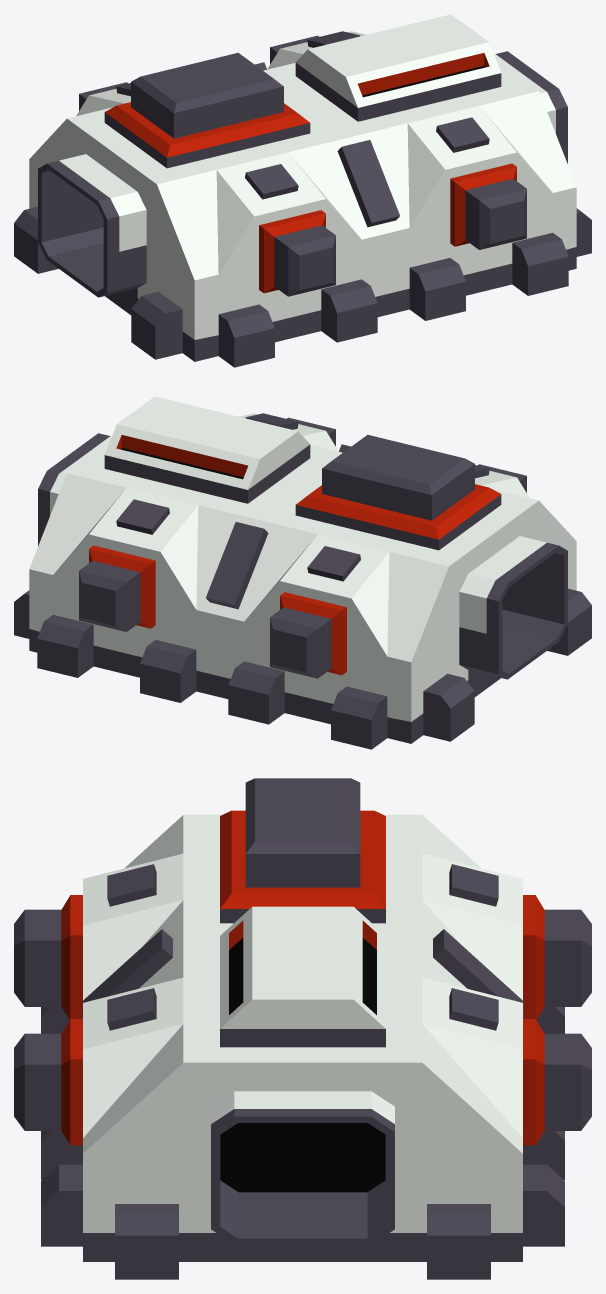
The model's file is DeadlineModel.fbx.
The picture shows the model from 3 angles, top to bottom: view 1: azimuth 30°, elevation 25°; view 2: azimuth 150°, elevation 25°; view 3: azimuth 270°, elevation 25°; orthographic projection. The views are drawn at different scales.
Parts seen in each view (by area): view 1: Constructor_Base, Constructor_T_M, Constructor_RB_M, Constructor_RF_M; view 2: Constructor_Base, Constructor_T_M, Constructor_LB_M, Constructor_LF_M; view 3: Constructor_Base, Constructor_T_M, Constructor_LB_M, Constructor_LF_M, Constructor_RB_M, Constructor_RF_M.
Part boxes in pixels (x1,y1,x2,y2): Constructor_Base: (14, 14, 591, 367); Constructor_T_M: (131, 52, 283, 138); Constructor_RB_M: (274, 225, 335, 296); Constructor_RF_M: (465, 178, 526, 249); Constructor_Base: (14, 396, 591, 749); Constructor_T_M: (322, 434, 474, 520); Constructor_LB_M: (270, 607, 331, 678); Constructor_LF_M: (79, 560, 140, 631); Constructor_Base: (41, 810, 564, 1279); Constructor_T_M: (245, 778, 360, 887); Constructor_LB_M: (544, 909, 591, 1006); Constructor_LF_M: (544, 1033, 591, 1130); Constructor_RB_M: (14, 909, 61, 1006); Constructor_RF_M: (14, 1033, 61, 1130).
Bounding box in the file's own units: 9.65 × 4.01 × 7.88.
